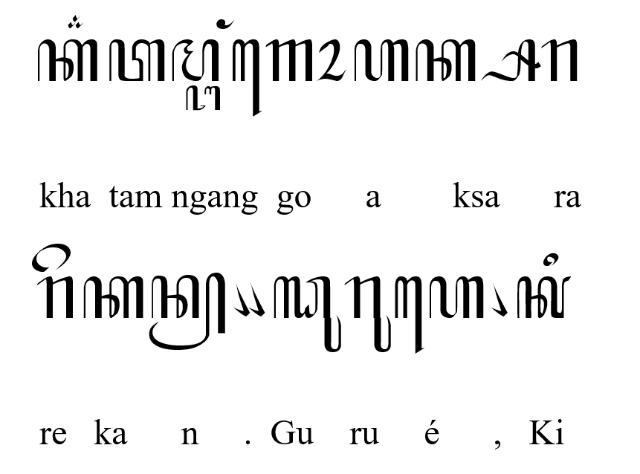-n: (148, 272, 226, 352)
Gu: (274, 276, 342, 352)
K: (516, 276, 572, 318)
_s: (481, 39, 541, 81)
alt: (68, 14, 84, 28)
e: (32, 243, 72, 273)
e1: (232, 38, 262, 117), (394, 276, 424, 354)
g: (265, 38, 313, 82)
h: (429, 276, 485, 320), (354, 39, 410, 81)
i: (544, 252, 558, 266)
k: (37, 38, 99, 82), (82, 276, 144, 320), (416, 38, 476, 82)
kom: (248, 282, 266, 318), (489, 283, 508, 317), (233, 283, 249, 317)
m: (172, 38, 218, 82)
ng: (217, 18, 236, 30)
nga: (185, 84, 221, 112)
o: (316, 38, 348, 82)
r: (36, 276, 74, 318), (542, 38, 578, 82)
ru: (344, 275, 392, 353)
t: (108, 40, 166, 82)
